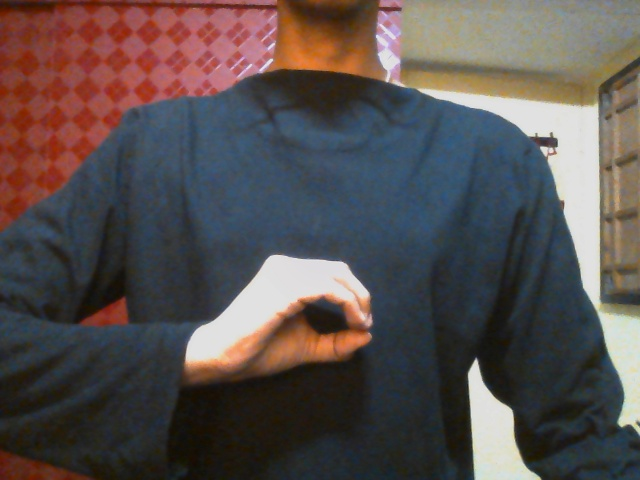O: (217, 254, 374, 382)
